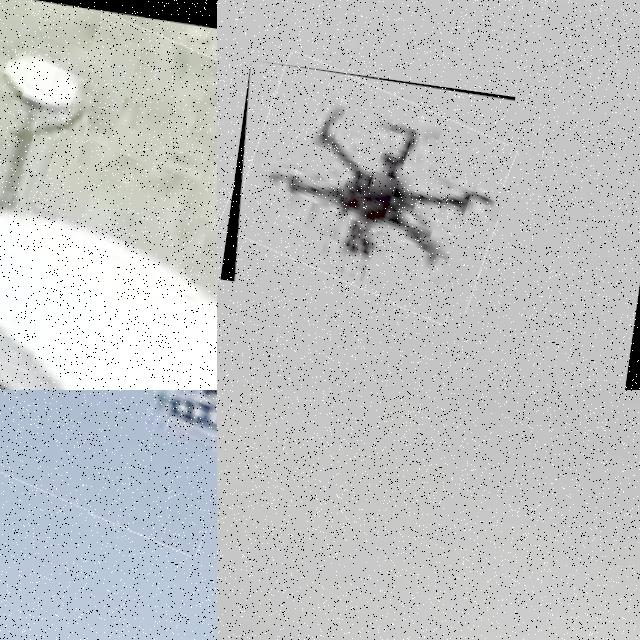drone: (0, 0, 217, 390), (220, 60, 516, 317), (0, 390, 217, 536)
